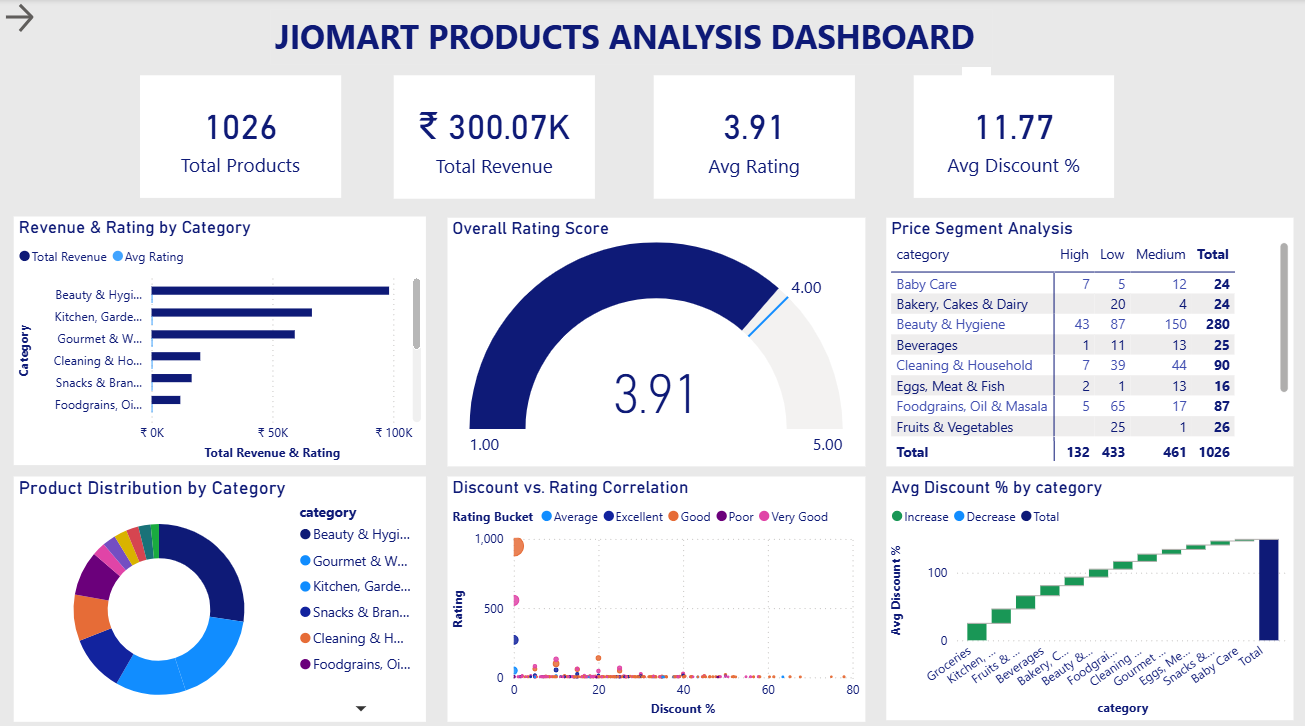

This screenshot's page, from the dashboard's own definition file:
{"tool":"powerbi","page":{"name":"Executive Overview","canvas":[1280,720],"ordinal":0},"visuals":[{"type":"textbox","box":[264.1,9.8,706.8,55],"z":0},{"type":"card","fields":{"Values":["jiomart_products_data.Total Products"]},"box":[137,74.6,196.9,119.8],"z":1000},{"type":"card","fields":{"Values":["jiomart_products_data.Total Revenue"]},"box":[385.2,74.6,196.9,121.1],"z":2000},{"type":"card","fields":{"Values":["jiomart_products_data.Avg Rating"]},"box":[639.5,74.6,196.9,121.1],"z":3000},{"type":"card","fields":{"Values":["jiomart_products_data.Avg Discount %"]},"box":[893.9,74.6,195.7,119.8],"z":4000},{"type":"clusteredBarChart","title":"Revenue & Rating by Category","fields":{"Category":["jiomart_products_data.category"],"Y":["jiomart_products_data.Total Revenue","jiomart_products_data.Avg Rating"]},"box":[13.5,212.8,403.5,243.3],"z":5000},{"type":"donutChart","title":"Product Distribution by Category","fields":{"Category":["jiomart_products_data.category"],"Y":["jiomart_products_data.Total Products"]},"box":[13.5,467.1,403.5,239.7],"z":6000},{"type":"pivotTable","title":"Price Segment Analysis","fields":{"Rows":["jiomart_products_data.category"],"Columns":["jiomart_products_data.price_segment"],"Values":["jiomart_products_data.Total Products"]},"box":[867,214,398.6,243.3],"z":7000},{"type":"gauge","title":"Overall Rating Score","fields":{"Y":["jiomart_products_data.Avg Rating"]},"box":[437.8,214,408.4,243.3],"z":8000},{"type":"scatterChart","title":"Discount vs. Rating Correlation","fields":{"X":["jiomart_products_data.discount_percentage"],"Y":["Sum(jiomart_products_data.rating)"],"Series":["jiomart_products_data.rating_bucket"],"Size":["Sum(jiomart_products_data.sale_price)"]},"box":[437.8,467.1,408.4,239.7],"z":9000},{"type":"waterfallChart","fields":{"Category":["jiomart_products_data.category"],"Y":["jiomart_products_data.Avg Discount %"]},"box":[867,467.1,398.6,238.5],"z":10000},{"type":"actionButton","box":[0,0,43.9,37],"z":11000}]}

Visuals, with their boxes in screenshot pixels (x1, y1, x2, y2), scaled from the page's 1280x720 canvas onto the 1305x726 screenshot:
textbox: crop(269, 10, 990, 65)
card - jiomart_products_data.Total Products: crop(140, 75, 340, 196)
card - jiomart_products_data.Total Revenue: crop(393, 75, 593, 197)
card - jiomart_products_data.Avg Rating: crop(652, 75, 853, 197)
card - jiomart_products_data.Avg Discount %: crop(911, 75, 1111, 196)
"Revenue & Rating by Category" clusteredBarChart: crop(14, 215, 425, 460)
"Product Distribution by Category" donutChart: crop(14, 471, 425, 713)
"Price Segment Analysis" pivotTable: crop(884, 216, 1290, 461)
"Overall Rating Score" gauge: crop(446, 216, 863, 461)
"Discount vs. Rating Correlation" scatterChart: crop(446, 471, 863, 713)
waterfallChart - jiomart_products_data.category x jiomart_products_data.Avg Discount %: crop(884, 471, 1290, 711)
actionButton: crop(0, 0, 45, 37)
